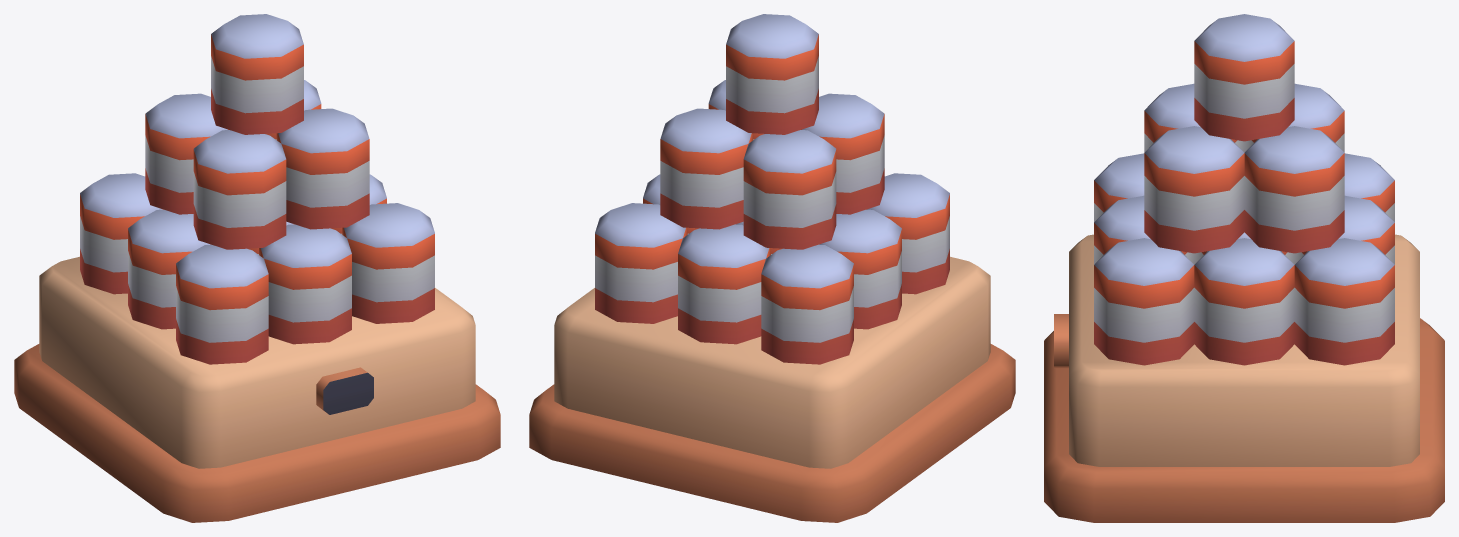
The model's file is display-cans.glb.
The picture shows the model from 3 angles, left to right: view 1: azimuth 30°, elevation 25°; view 2: azimuth 150°, elevation 25°; view 3: azimuth 270°, elevation 25°; orthographic projection. The views are drawn at different scales.
Parts seen in each view (by area): view 1: can (×9), display-cans; view 2: can (×9), display-cans; view 3: can (×12), display-cans.
Boxes of the visible parts, box(x1,y1,x2,y2) form: can (×9): box(80, 14, 434, 364); display-cans: box(14, 256, 500, 522); can (×9): box(595, 14, 949, 364); display-cans: box(529, 256, 1015, 522); can (×12): box(1094, 14, 1394, 365); display-cans: box(1044, 234, 1444, 522).
Size of the model in its own units: 0.8 by 0.9 by 0.8.
Materials: 1 (1 with a texture image).
